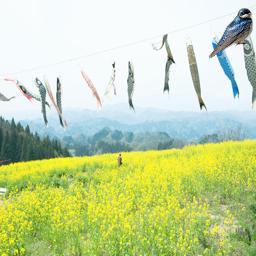Swallow: (209, 7, 253, 59)
